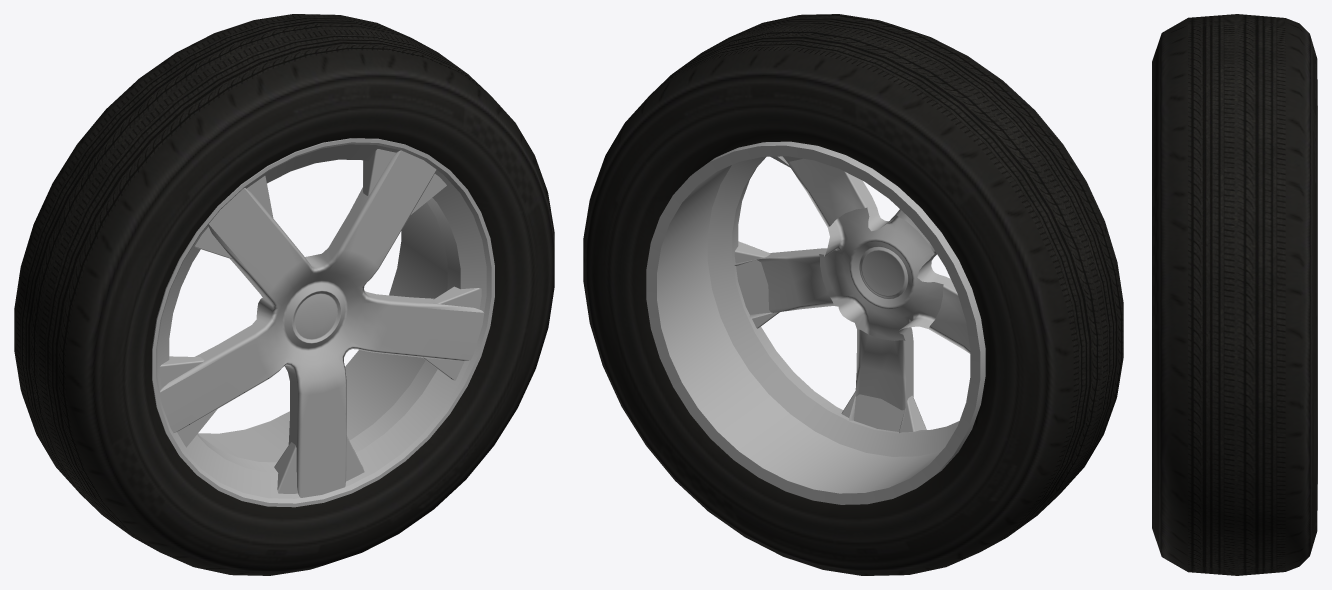
3 views of the same model, side by side, from view 1: azimuth 30°, elevation 25°; view 2: azimuth 150°, elevation 25°; view 3: azimuth 270°, elevation 25° (orthographic).
Visible parts, largest first — view 1: Y175_18_901C_R_2_DM_Y175_18_901C_R, Y175_18_901C_R_Y175_18_901C_R_1_DaS; view 2: Y175_18_901C_R_2_DM_Y175_18_901C_R, Y175_18_901C_R_Y175_18_901C_R_1_DaS; view 3: Y175_18_901C_R_2_DM_Y175_18_901C_R, Y175_18_901C_R_Y175_18_901C_R_1_DaS.
Boxes of the visible parts, <box> form: Y175_18_901C_R_2_DM_Y175_18_901C_R: <box>14,14,554,575</box>; Y175_18_901C_R_Y175_18_901C_R_1_DaS: <box>152,138,494,507</box>; Y175_18_901C_R_2_DM_Y175_18_901C_R: <box>583,14,1123,575</box>; Y175_18_901C_R_Y175_18_901C_R_1_DaS: <box>646,141,985,504</box>; Y175_18_901C_R_2_DM_Y175_18_901C_R: <box>1152,14,1317,575</box>; Y175_18_901C_R_Y175_18_901C_R_1_DaS: <box>1317,106,1317,483</box>.
Size of the model in its own units: 72 by 72.27 by 21.27.
